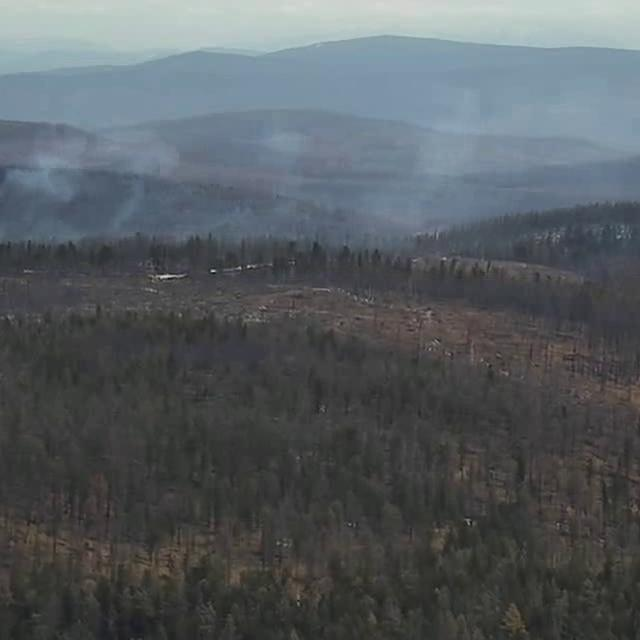Smoke: (1, 81, 425, 277)
